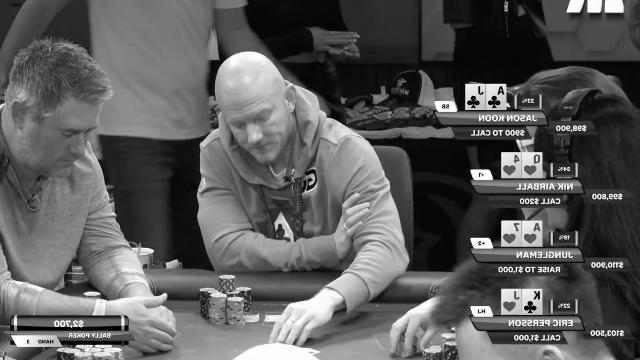4H: (501, 154, 521, 178)
7H: (501, 220, 522, 246)
AC: (486, 84, 508, 109)
AH: (522, 221, 542, 247)
JC: (465, 84, 485, 110)
JH: (501, 290, 521, 316)
KC: (522, 289, 542, 315)
QH: (523, 154, 541, 178)
